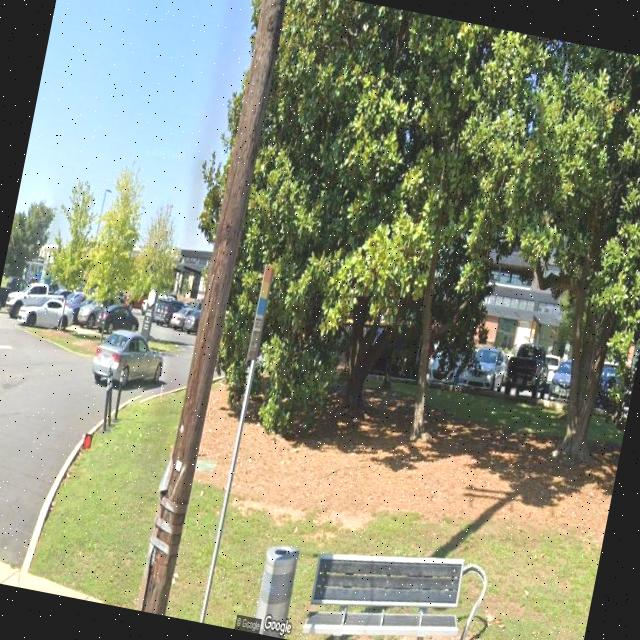seating: (298, 531, 472, 640)
trash_can: (250, 542, 300, 639)
